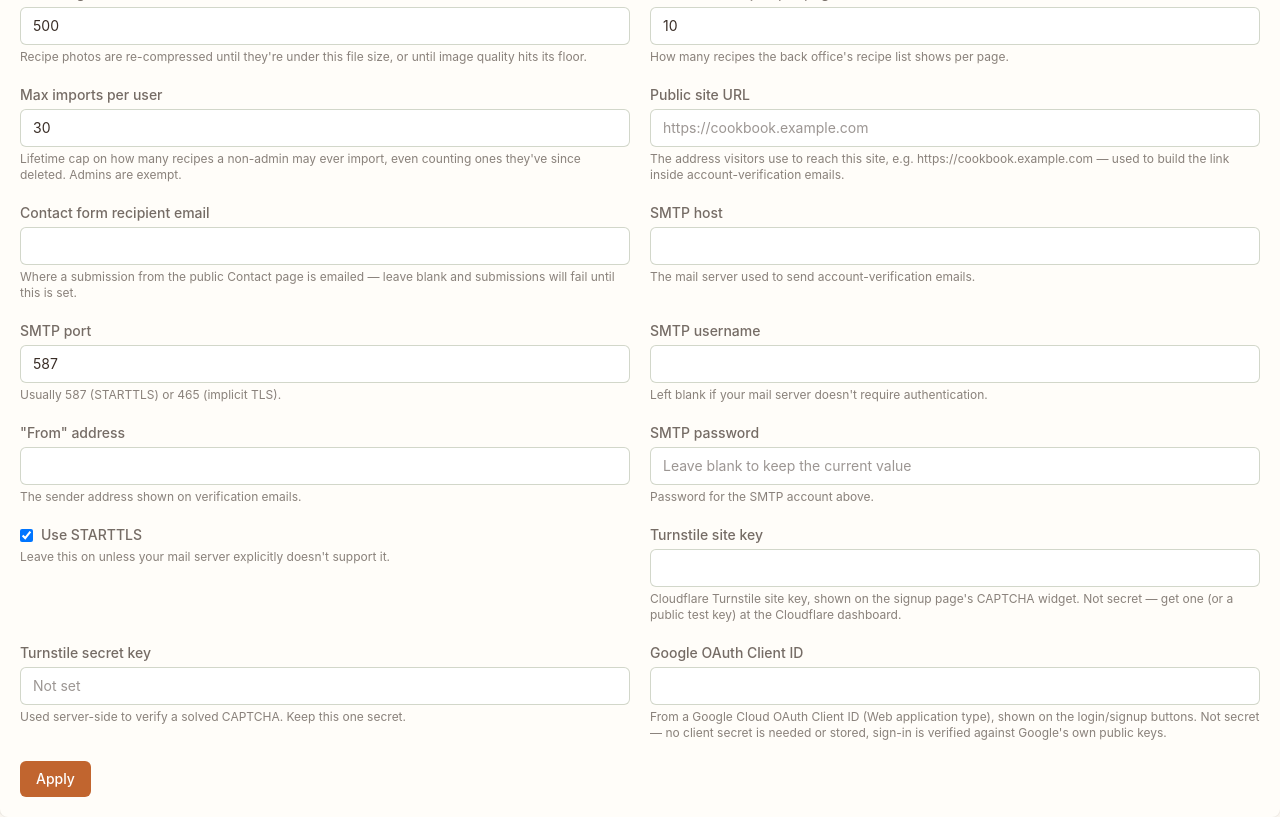
SettingsManager › shows an error message when applying fails
(page scrolled)
Click the button "Apply": x=55, y=779 20,761 -> 91,797
(page scrolled)
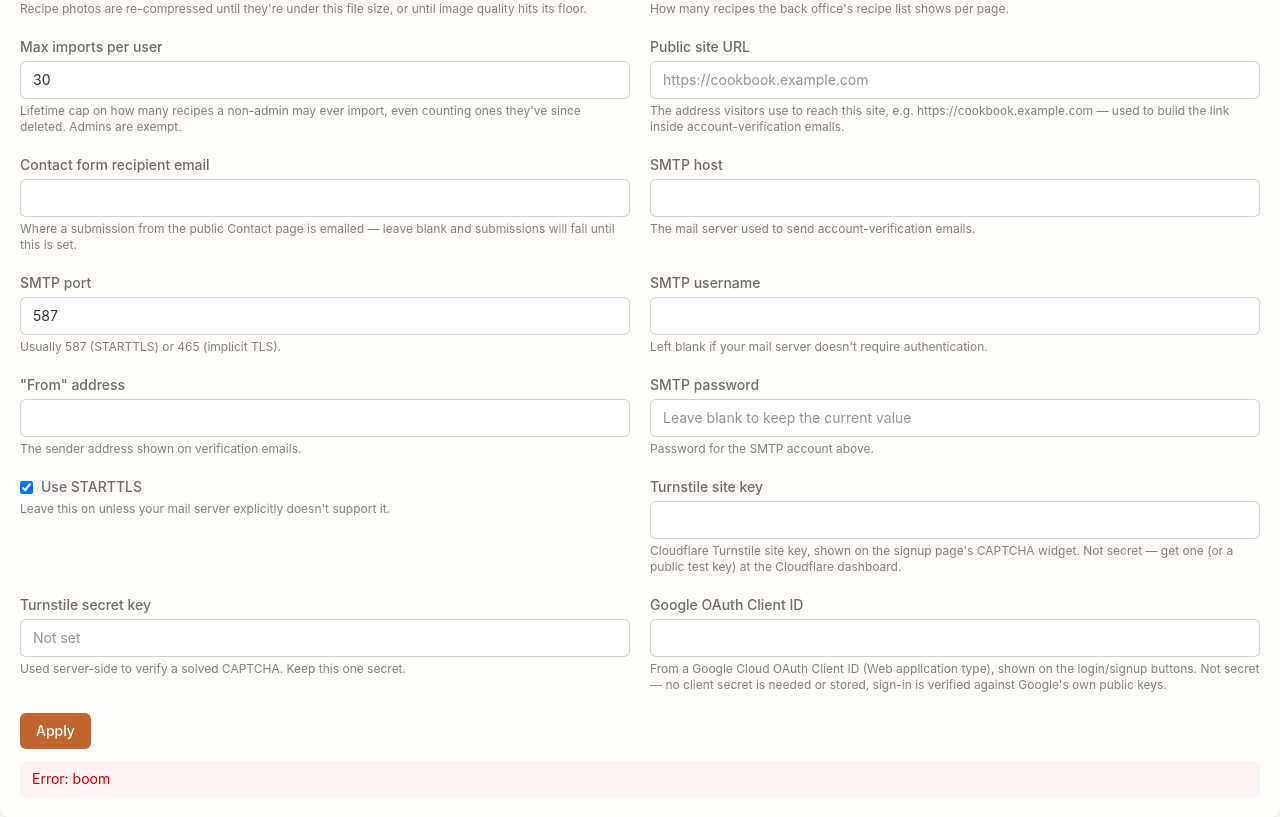
Result: the message shows "boom" at 32,770 -> 110,787
